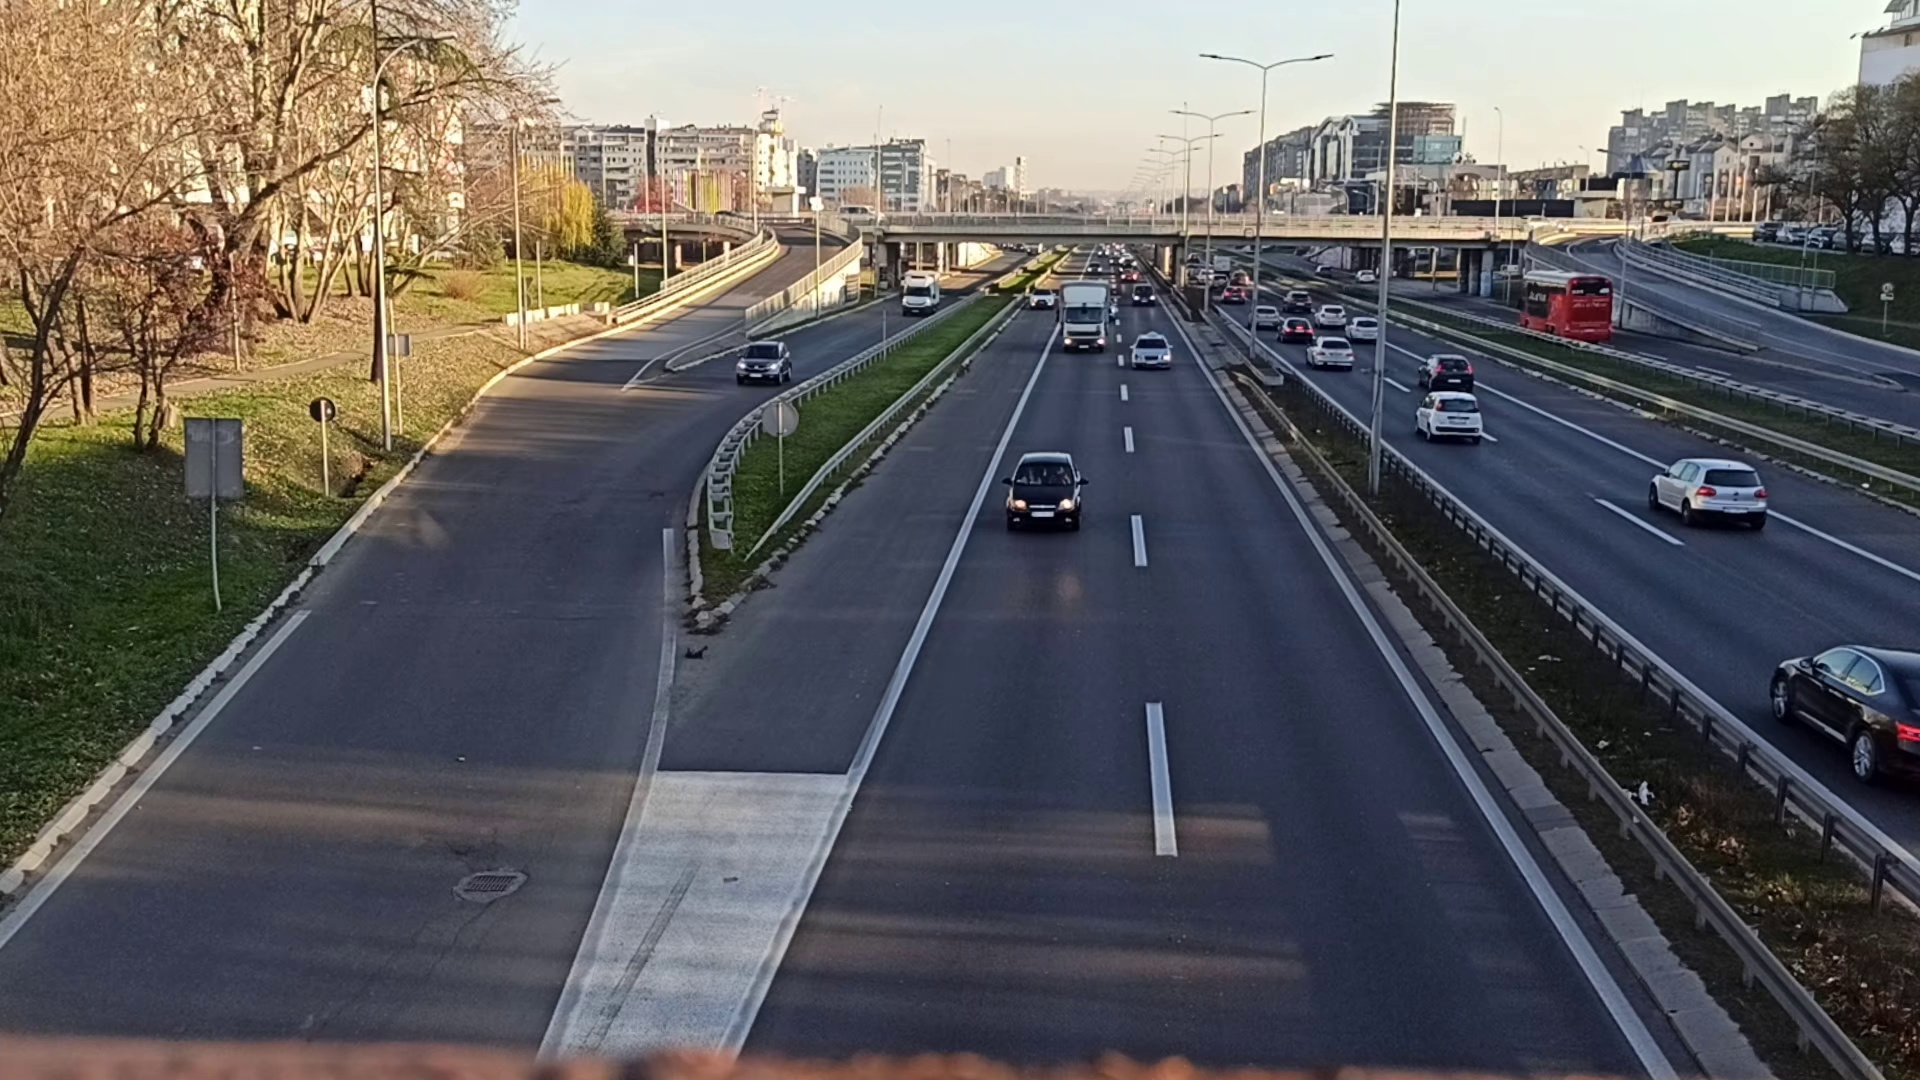car: (1651, 454, 1764, 530), (1005, 452, 1083, 529), (1414, 388, 1485, 443), (735, 340, 789, 384), (1418, 351, 1474, 392), (1307, 334, 1356, 367), (1130, 334, 1171, 368), (1130, 282, 1155, 306)
truck: (1058, 280, 1106, 351)
van: (899, 272, 940, 313)
